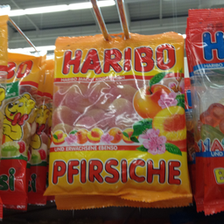candy: (49, 35, 189, 202), (182, 10, 223, 219)
